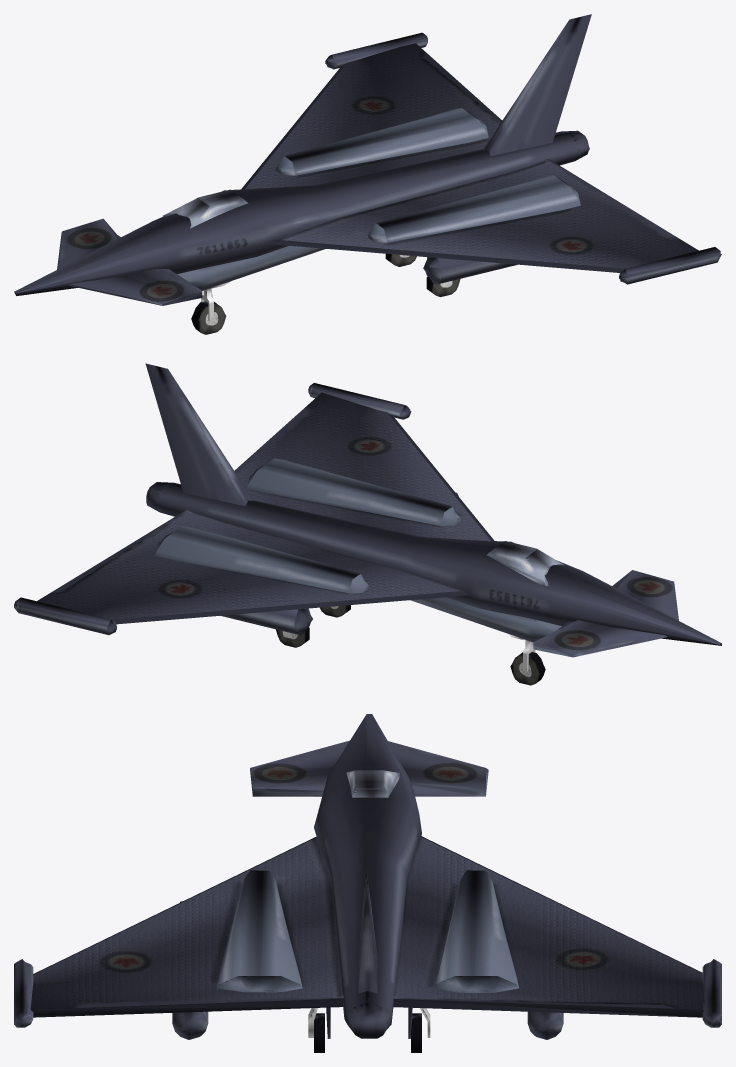
File: fighter.obj
3 renders of one model, top to bottom at view 1: azimuth 30°, elevation 25°; view 2: azimuth 150°, elevation 25°; view 3: azimuth 270°, elevation 25°, orthographic. The views are drawn at different scales.
Parts seen in each view (by area): view 1: Group; view 2: Group; view 3: Group.
Boxes of the visible parts, left/top/right/bottom form: Group: left=14, top=14, right=721, bottom=334; Group: left=14, top=363, right=721, bottom=685; Group: left=14, top=714, right=721, bottom=1052.
Size of the model in its own units: 179 by 66.54 by 161.
